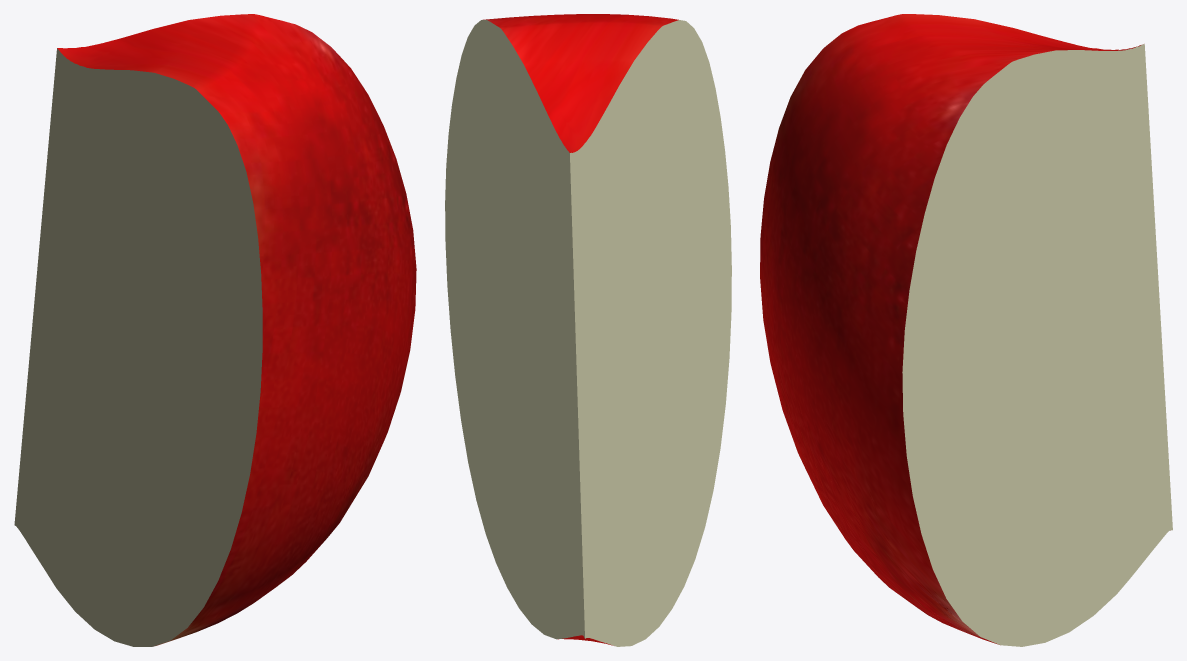
File: apple_model_1.gltf
3 views of the same model, side by side, from view 1: azimuth 30°, elevation 25°; view 2: azimuth 150°, elevation 25°; view 3: azimuth 270°, elevation 25° (orthographic). The views are drawn at different scales.
Visible parts, largest first — view 1: apple.030; view 2: apple.030; view 3: apple.030.
Part boxes in pixels (x1,y1,x2,y2): apple.030: (14,14,416,646); apple.030: (445,14,731,646); apple.030: (760,14,1172,646).
Bounding box in the file's own units: 0.7981 × 1.63 × 1.
Materials: 2 (1 with a texture image).
